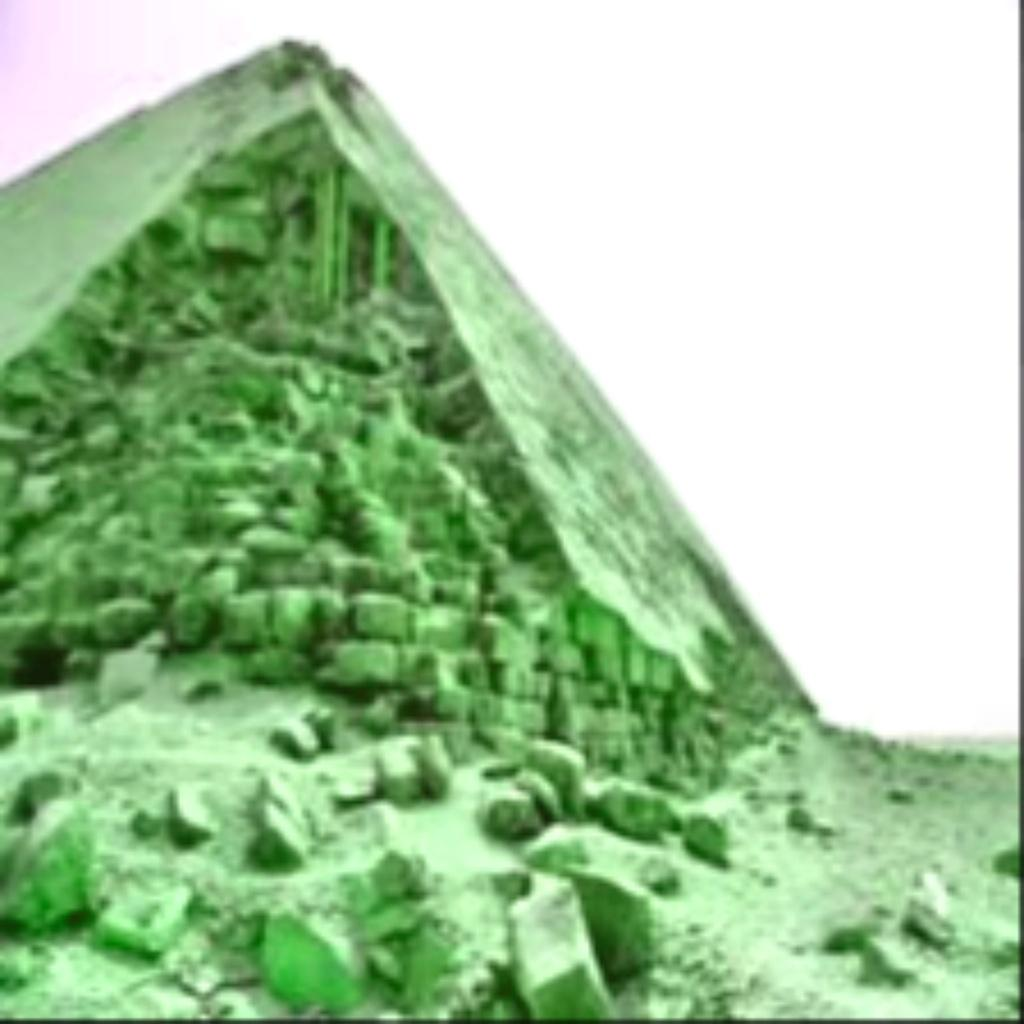Bent Pyramid of King Sneferu: (0, 32, 818, 795)
